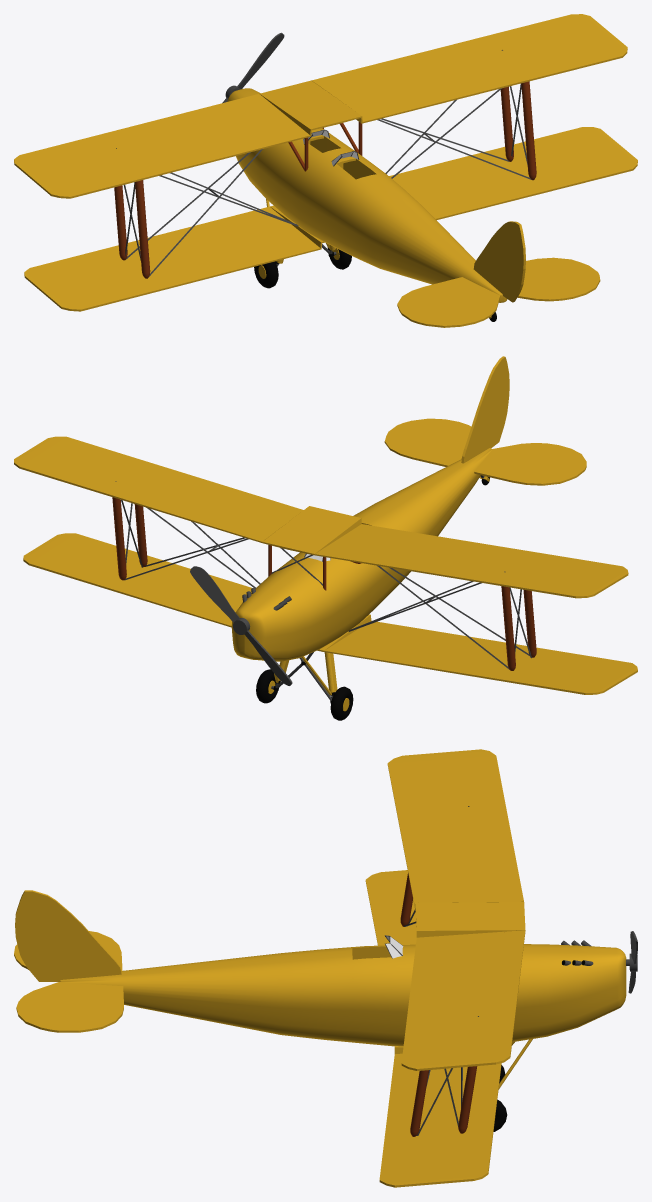
3 renders of one model, top to bottom at view 1: azimuth 30°, elevation 25°; view 2: azimuth 150°, elevation 25°; view 3: azimuth 270°, elevation 25°, orthographic. The views are drawn at different scales.
Visible parts, largest first — view 1: Plane.001, Plane.002, Cylinder.001, Plane.003, Plane.004, Cylinder.003, Cylinder.002, Torus.001, Cylinder.007, Plane.006, Cylinder.009, Cylinder.006 (+1 smaller); view 2: Plane.001, Plane.002, Cylinder.001, Plane.003, Plane.004, Plane.006, Cylinder.002, Cylinder.003, Torus.001, Cylinder.006, Cylinder.008, Cylinder.007; view 3: Plane.001, Cylinder.001, Plane.002, Plane.004, Plane.003, Cylinder.003, Cylinder.002.
Boxes of the visible parts, x1,y1,x2,y2 form: Plane.001: [14, 14, 627, 198]; Plane.002: [24, 127, 637, 311]; Cylinder.001: [227, 88, 507, 302]; Plane.003: [397, 257, 600, 327]; Plane.004: [473, 221, 525, 302]; Cylinder.003: [135, 81, 536, 278]; Cylinder.002: [114, 86, 513, 260]; Torus.001: [254, 249, 351, 288]; Cylinder.007: [149, 119, 531, 276]; Plane.006: [222, 32, 284, 103]; Cylinder.009: [159, 88, 501, 226]; Cylinder.006: [126, 118, 509, 259]; Plane.001: [14, 436, 628, 598]; Plane.002: [23, 533, 637, 694]; Cylinder.001: [231, 448, 491, 661]; Plane.003: [384, 418, 586, 485]; Plane.004: [461, 356, 509, 463]; Plane.006: [190, 566, 292, 685]; Cylinder.002: [112, 497, 515, 670]; Cylinder.003: [134, 504, 536, 657]; Torus.001: [256, 669, 353, 720]; Cylinder.006: [124, 538, 509, 669]; Cylinder.008: [146, 507, 481, 631]; Cylinder.007: [145, 537, 530, 656]; Plane.001: [387, 749, 525, 1070]; Cylinder.001: [59, 944, 626, 1046]; Plane.002: [365, 870, 501, 1187]; Plane.004: [15, 890, 121, 981]; Plane.003: [14, 931, 123, 1032]; Cylinder.003: [400, 873, 428, 1136]; Cylinder.002: [458, 1066, 477, 1133].
Size of the model in its own units: 1945 by 651 by 1633.
